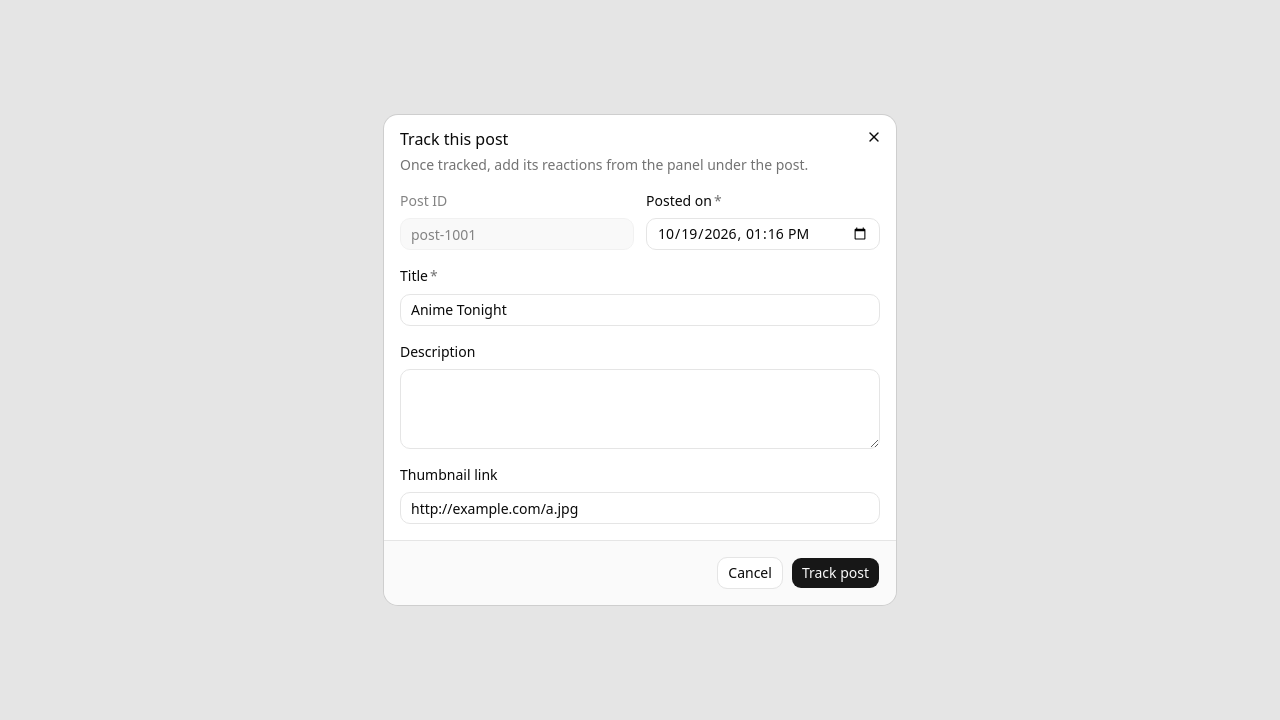
Test case: moderation dialogs › shows a post's problem under its field
Click the button "Track post".
click(835, 573)  # box [791,557,880,589]
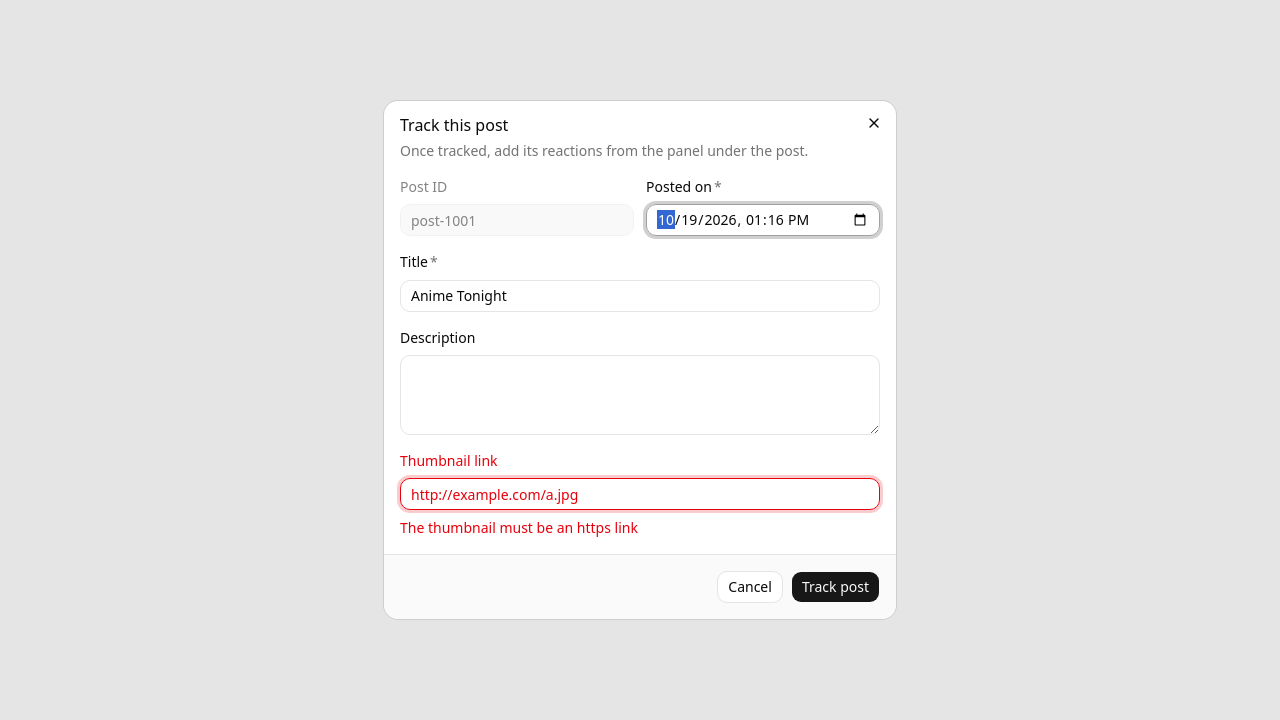
Expected: the message reads "The thumbnail must be an https link", [400,518,638,537]
